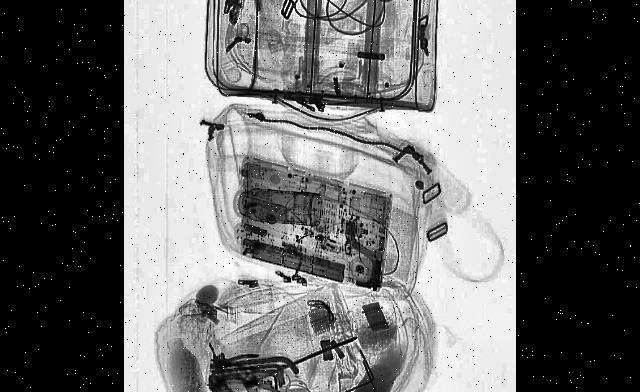Pliers: (233, 360, 287, 392)
Wrench: (205, 368, 260, 392)
